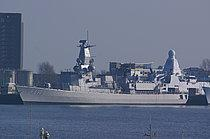MIL_Ship: (13, 37, 209, 106)
